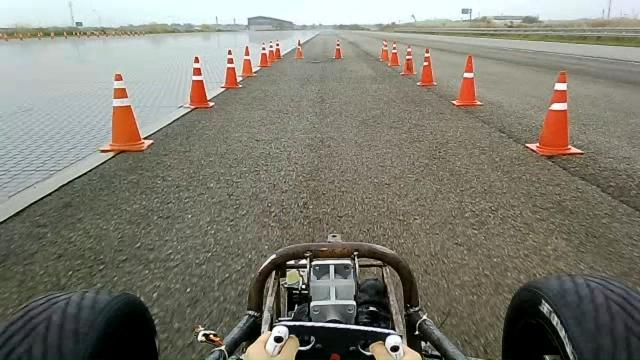red cone: (525, 69, 585, 157), (98, 72, 154, 153), (450, 54, 484, 107), (182, 55, 215, 109), (220, 48, 242, 89), (417, 47, 438, 86), (400, 43, 417, 76), (240, 44, 256, 78), (388, 40, 400, 66), (258, 41, 270, 67), (378, 38, 389, 62)
